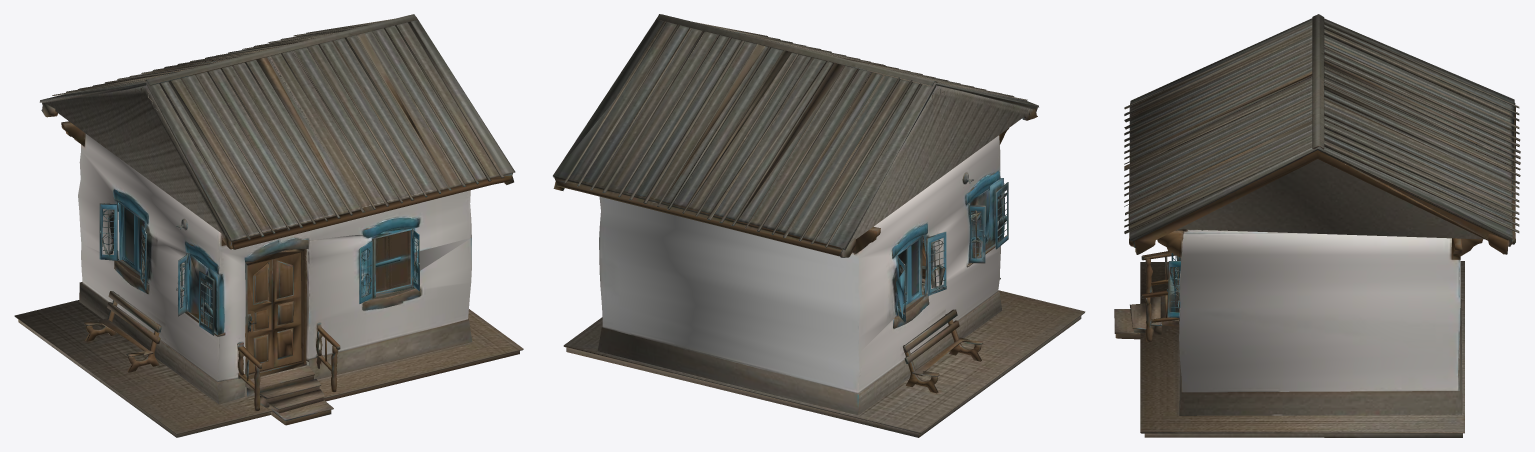
The model's file is village-house.glb.
3 views of the same model, side by side, from view 1: azimuth 30°, elevation 25°; view 2: azimuth 150°, elevation 25°; view 3: azimuth 270°, elevation 25° (orthographic). The views are drawn at different scales.
Bounding box in the file's own units: 0.9497 × 0.7339 × 0.9546.
Materials: 1 (1 with a texture image).
